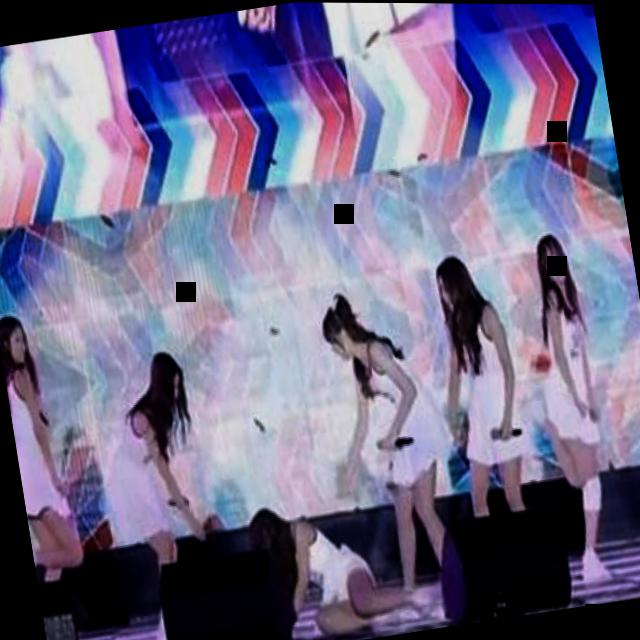Fall-Detected: (204, 473, 430, 640)
